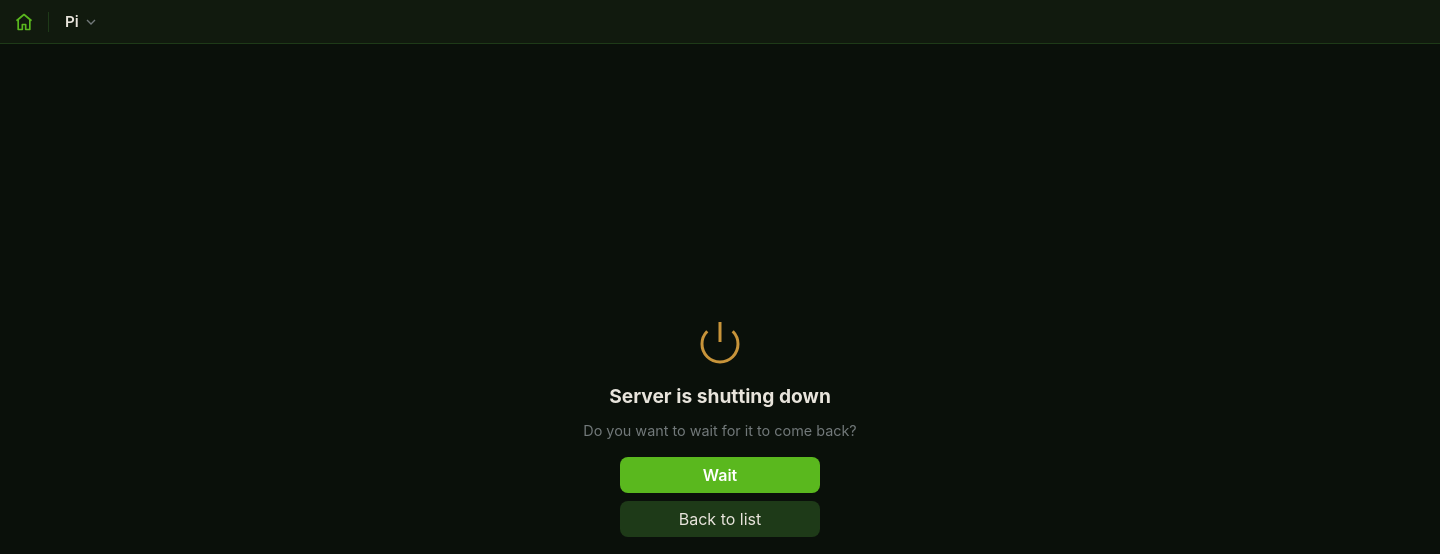
Test: InstanceView — poweroff › clicking Wait switches to waiting spinner
Click the button "Wait": (720, 474) 620,456 -> 820,492
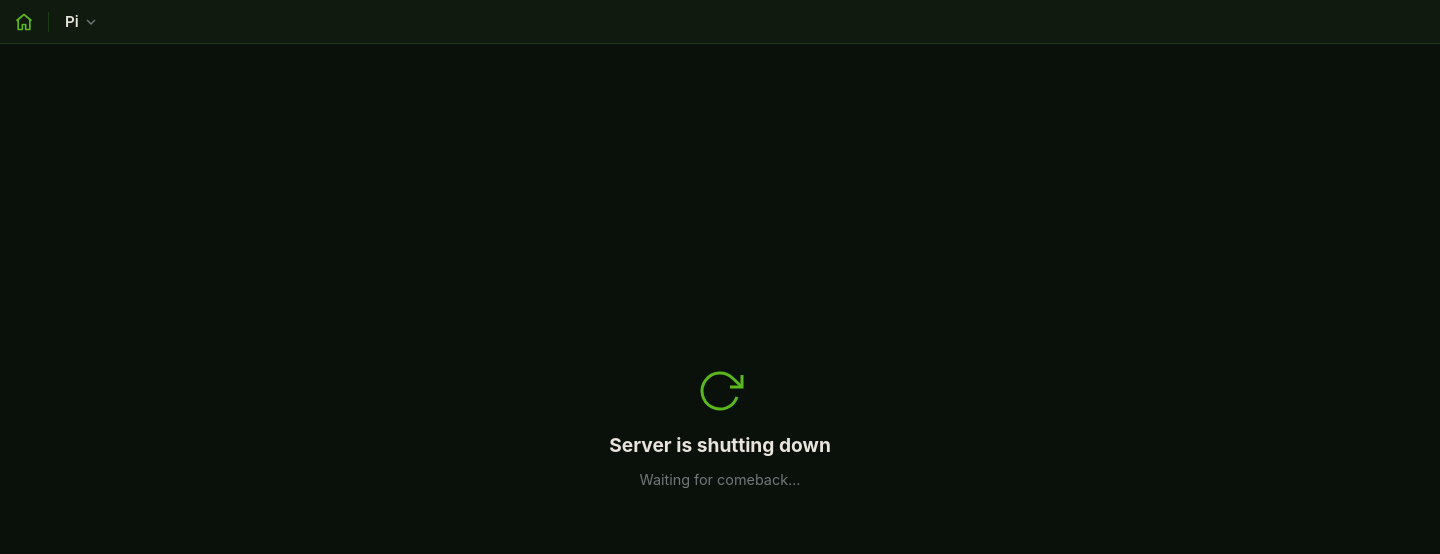
Check: the text "Waiting for comeback…" is shown, box 640,470 -> 800,488
